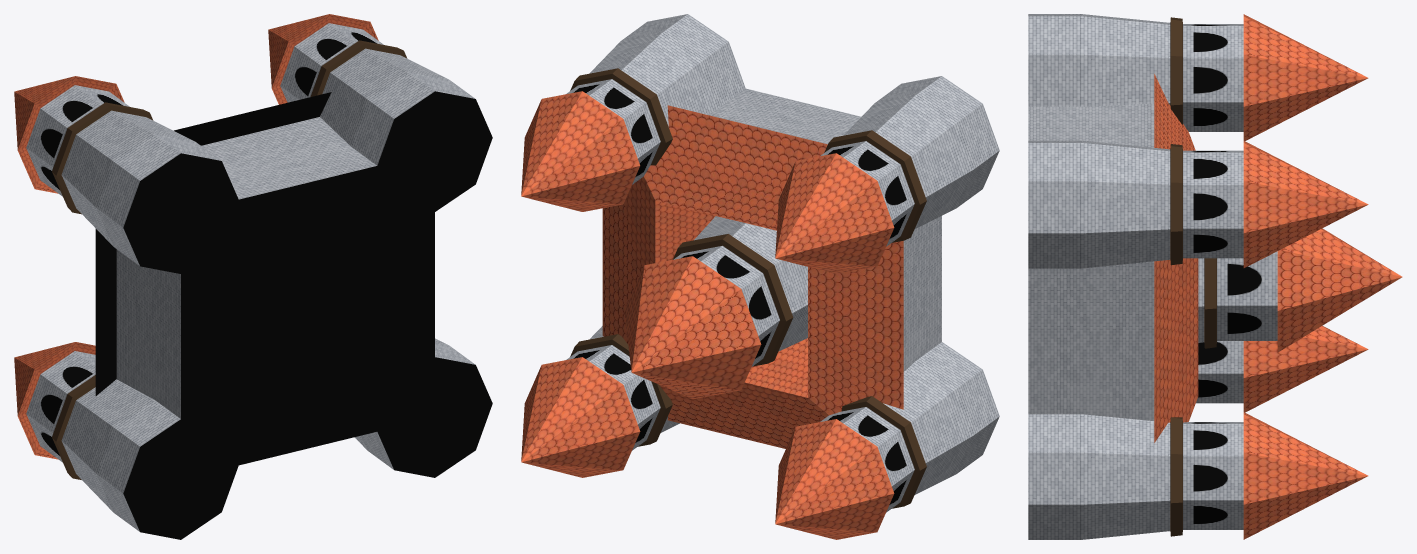
File: zamek.fbx
The picture shows the model from 3 angles, left to right: view 1: azimuth 30°, elevation 25°; view 2: azimuth 150°, elevation 25°; view 3: azimuth 270°, elevation 25°; orthographic projection. The views are drawn at different scales.
Parts seen in each view (by area): view 1: zamek; view 2: zamek; view 3: zamek.
Part boxes in pixels (box(x1,y1,x2,y2)): zamek: box(14, 14, 492, 539); zamek: box(521, 14, 999, 539); zamek: box(1028, 14, 1402, 539).
Bounding box in the file's own units: 551 × 640 × 640.
1 material, 1 textured.
